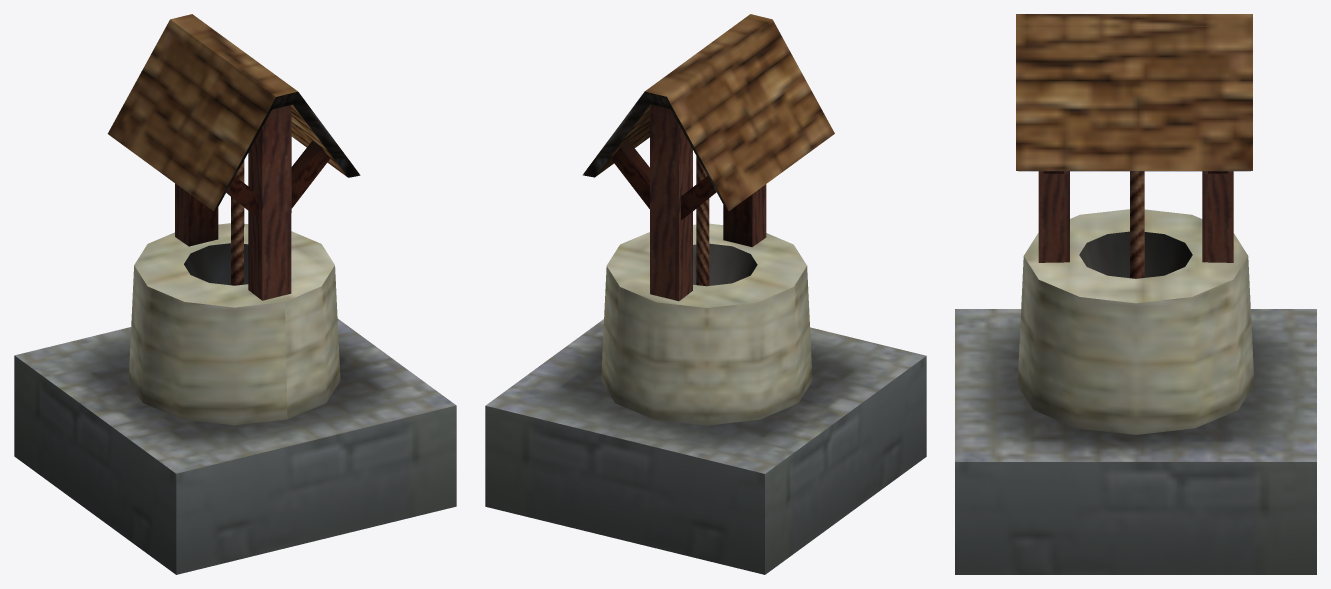
Rendered from med_tile_well.obj.
3 renders of one model, left to right at view 1: azimuth 30°, elevation 25°; view 2: azimuth 150°, elevation 25°; view 3: azimuth 270°, elevation 25°, orthographic. The views are drawn at different scales.
Parts seen in each view (by area): view 1: tile_tent_blue01; view 2: tile_tent_blue01; view 3: tile_tent_blue01.
Boxes of the visible parts, x1,y1,x2,y2 form: tile_tent_blue01: [14, 14, 456, 574]; tile_tent_blue01: [485, 14, 926, 574]; tile_tent_blue01: [955, 14, 1316, 574].
Bounding box in the file's own units: 1 × 1.46 × 1.
1 material, 1 textured.
